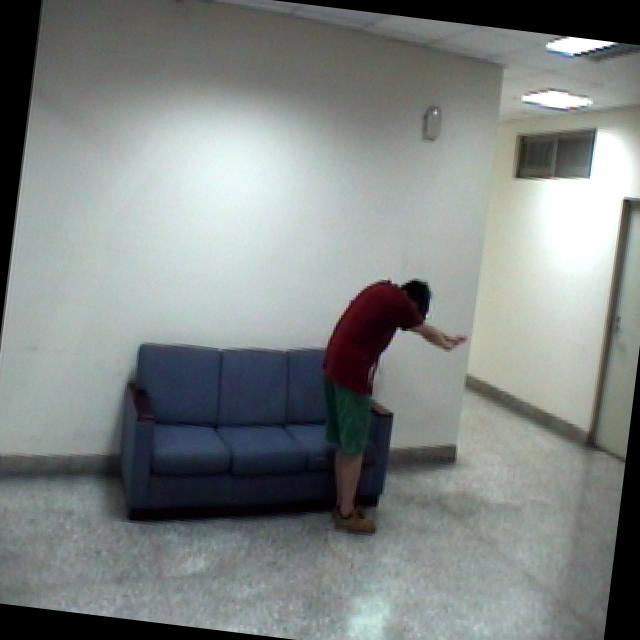bend: (301, 266, 478, 548)
